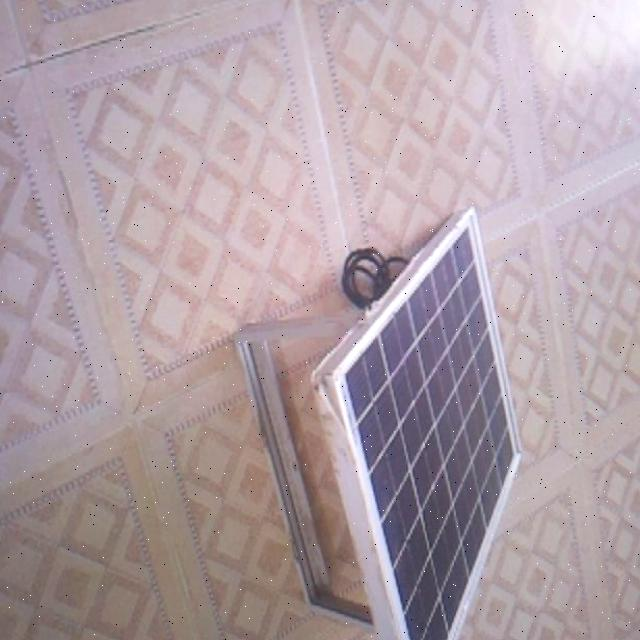Normal Solar Panel: (313, 208, 522, 640)
